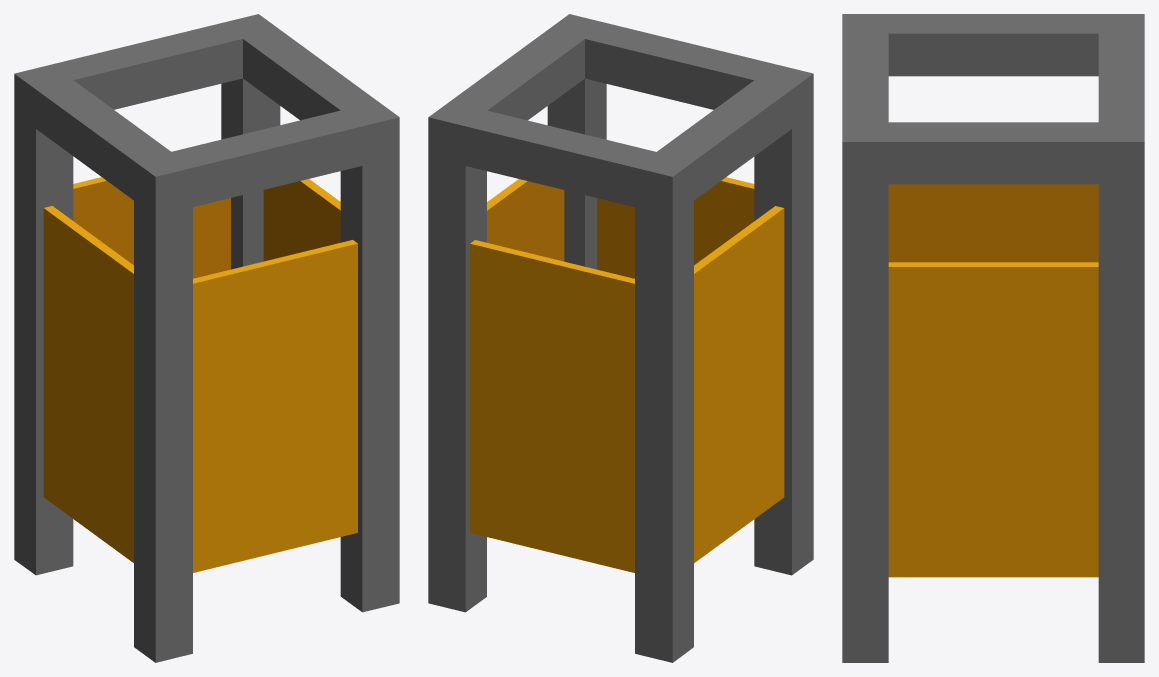
The model's file is Trash-02-C.fbx.
The picture shows the model from 3 angles, left to right: view 1: azimuth 30°, elevation 25°; view 2: azimuth 150°, elevation 25°; view 3: azimuth 270°, elevation 25°; orthographic projection. The views are drawn at different scales.
Parts seen in each view (by area): view 1: Trash-02; view 2: Trash-02; view 3: Trash-02.
Part boxes in pixels (bbox=[...]): Trash-02: bbox=[14, 14, 399, 662]; Trash-02: bbox=[428, 14, 813, 662]; Trash-02: bbox=[842, 14, 1144, 662].
Size of the model in its own units: 0.5646 by 1.07 by 0.5646.
